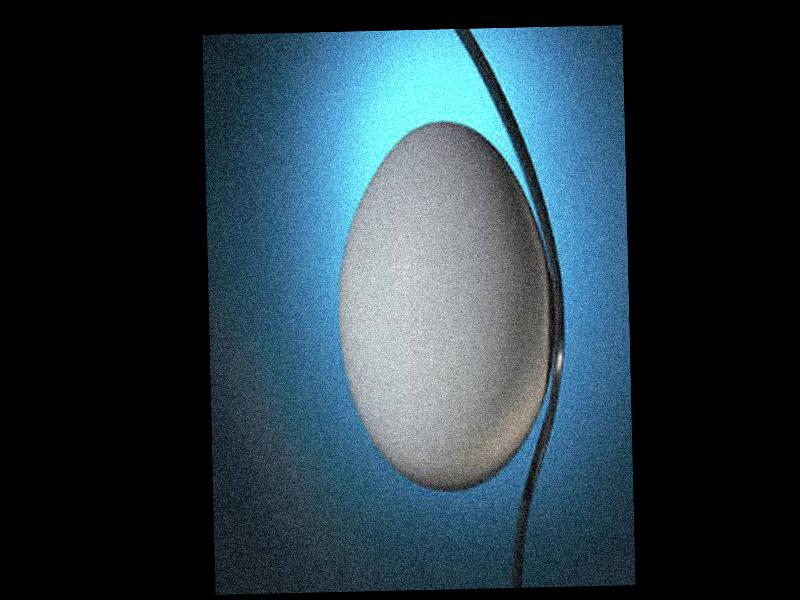Eggs: (337, 119, 555, 492)
